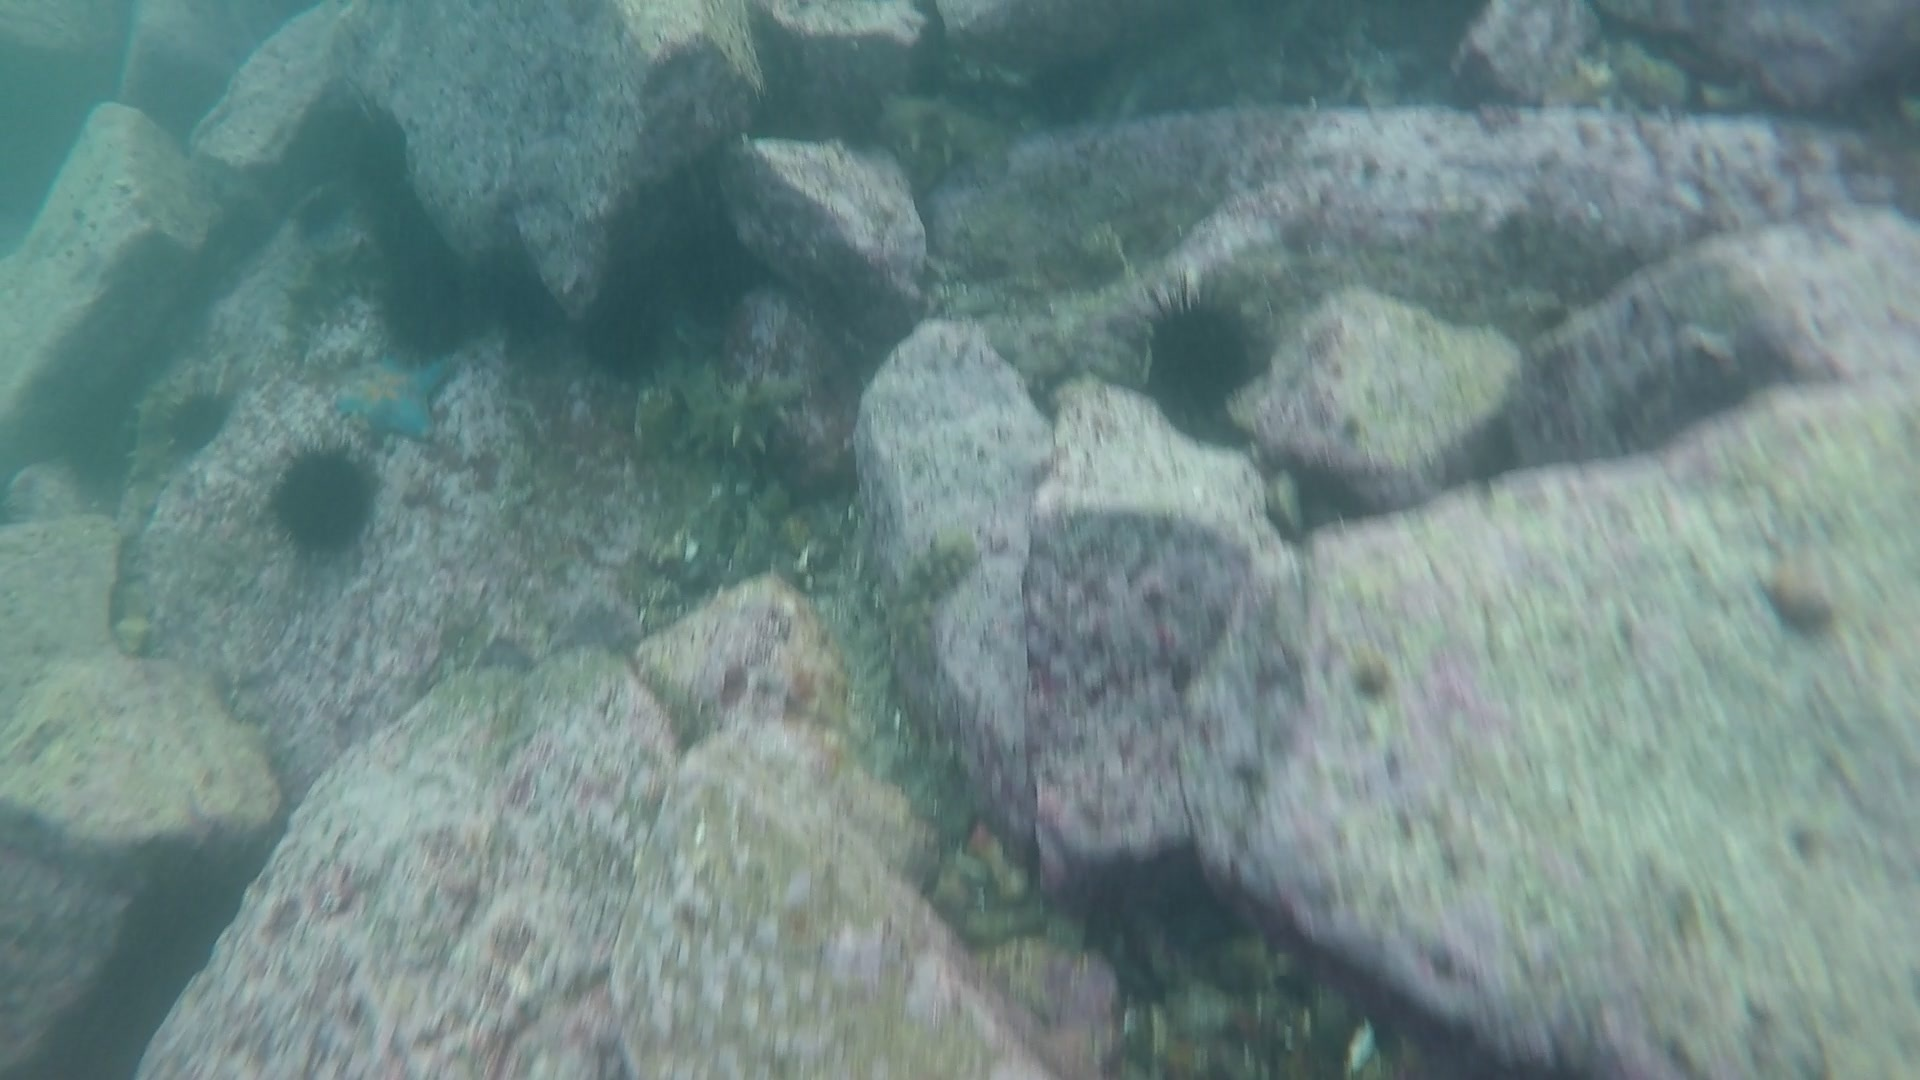echinus: (1125, 276, 1274, 425), (262, 433, 385, 564), (367, 245, 485, 363), (575, 280, 680, 386), (153, 377, 241, 463)
holothurian: (666, 353, 815, 475), (864, 86, 1007, 181), (276, 229, 389, 334)
starfish: (324, 344, 460, 450)
